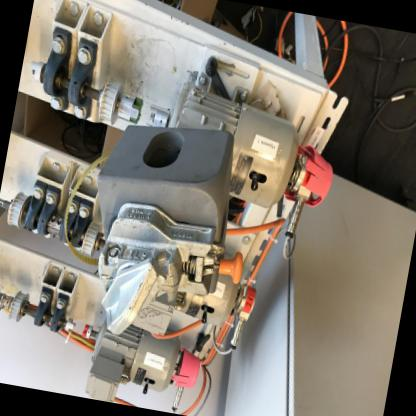CornerCasting: (98, 110, 242, 232)
Twistlock: (81, 190, 256, 360)
